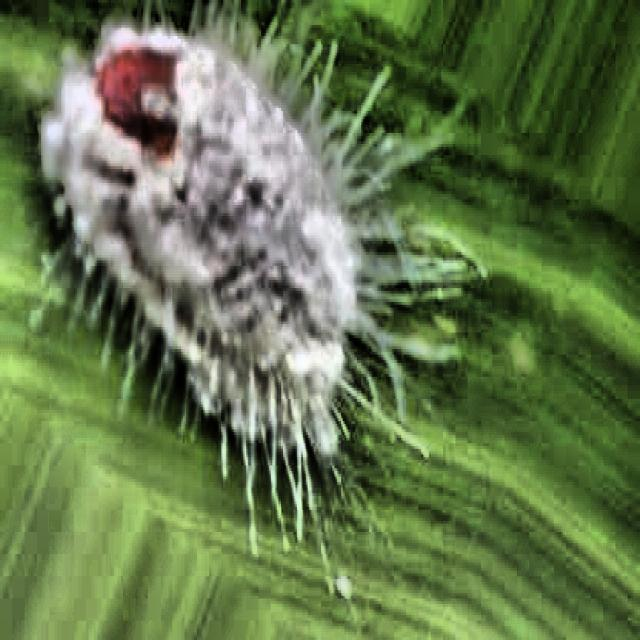Mealy-bug: (14, 3, 440, 559)
